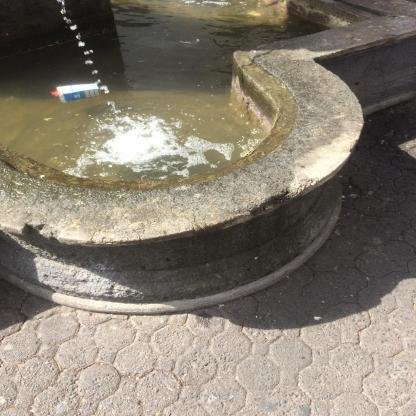karton: (57, 84, 102, 104)
